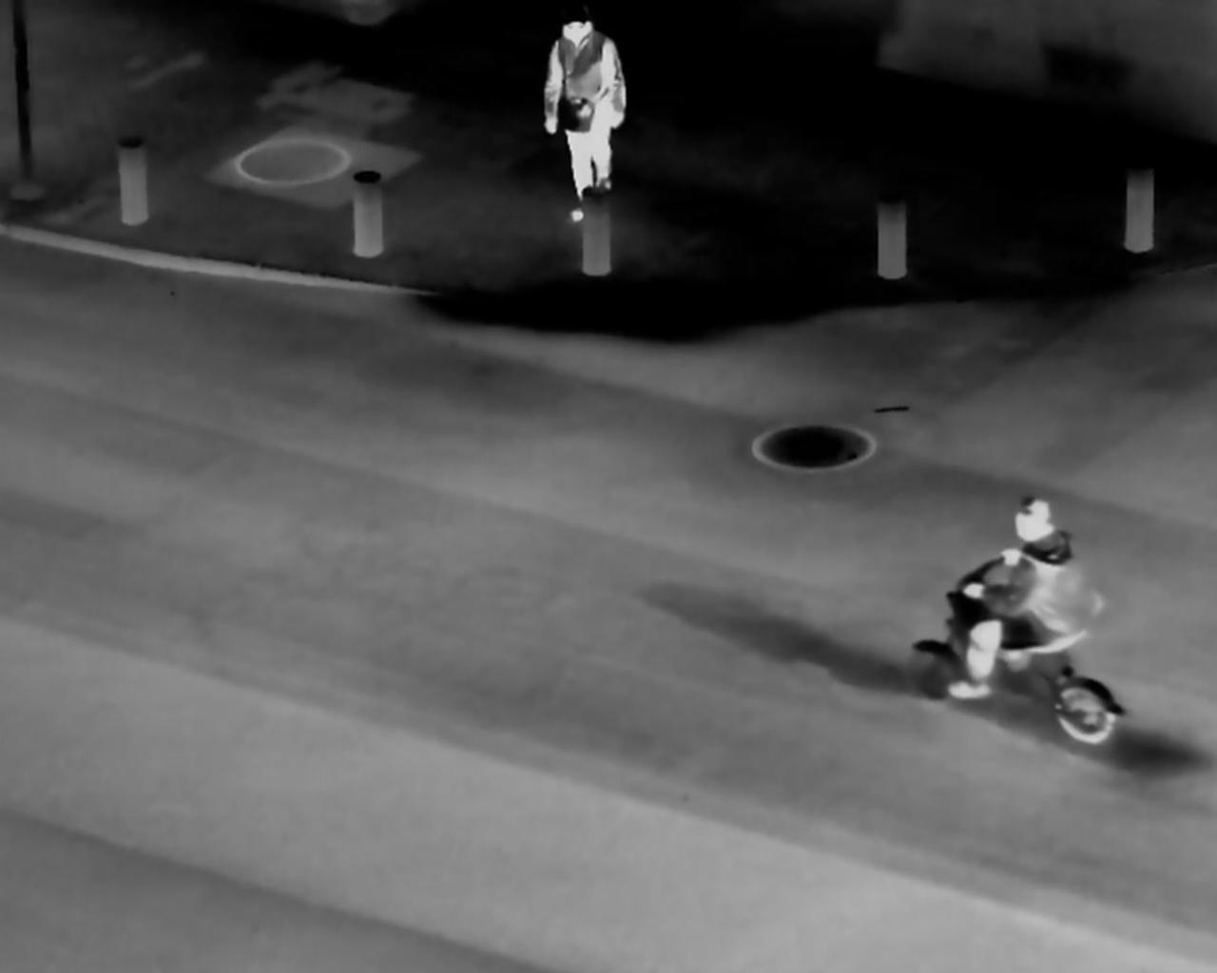person: (950, 483, 1100, 728), (533, 18, 643, 228)
